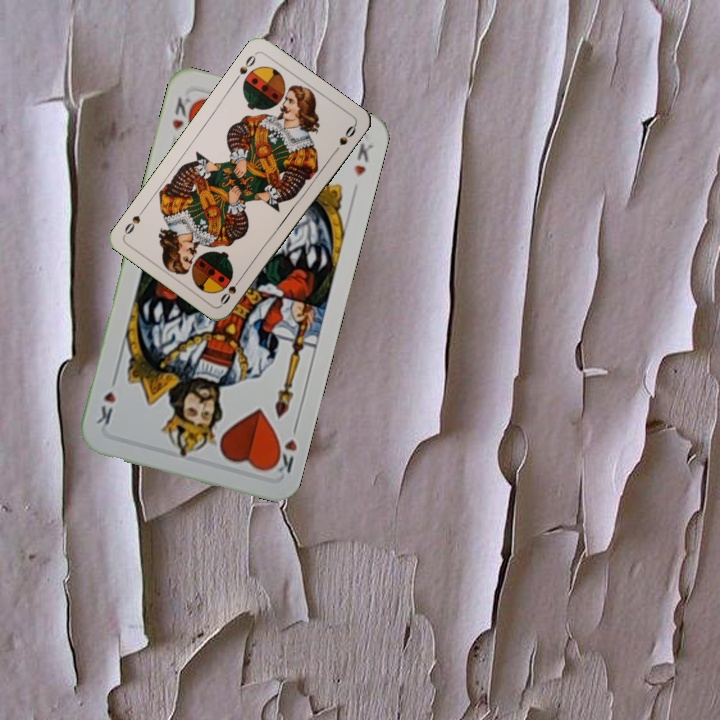HK: (267, 435, 300, 475), (167, 93, 198, 134)
SO: (216, 272, 246, 307), (230, 51, 258, 84)
